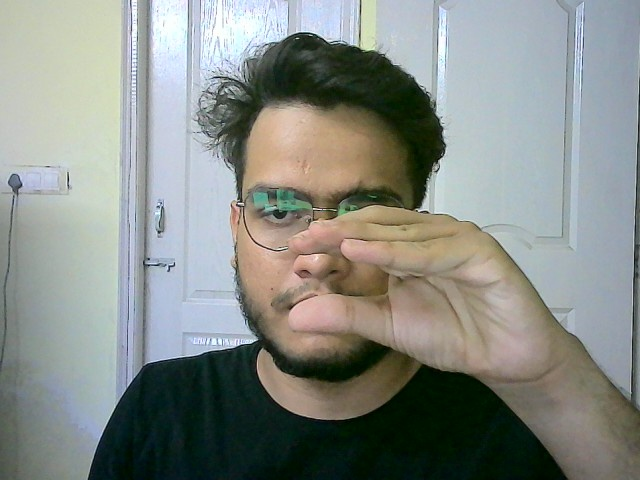No: (282, 197, 563, 391)
